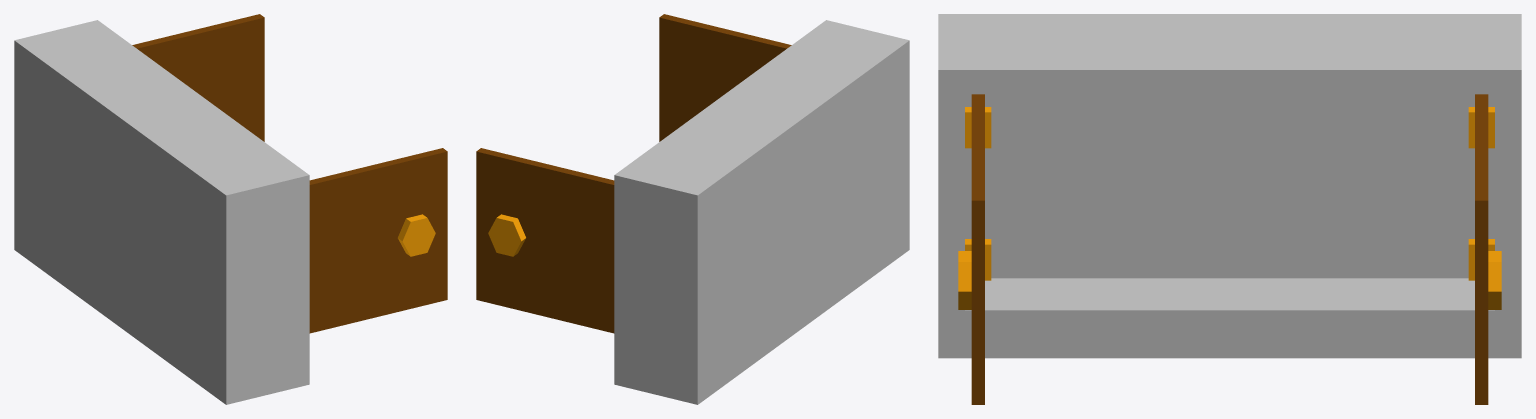
File: cupboardopen.obj
3 views of the same model, side by side, from view 1: azimuth 30°, elevation 25°; view 2: azimuth 150°, elevation 25°; view 3: azimuth 270°, elevation 25° (orthographic). The views are drawn at different scales.
Visible parts, largest first — view 1: cupboardopen_back; view 2: cupboardopen_back; view 3: cupboardopen_back.
Part boxes in pixels (x1=…): cupboardopen_back: x1=14, y1=14, x2=447, y2=404; cupboardopen_back: x1=476, y1=14, x2=909, y2=404; cupboardopen_back: x1=938, y1=14, x2=1521, y2=404.
Bounding box in the file's own units: 1.12 × 0.96 × 1.76.
